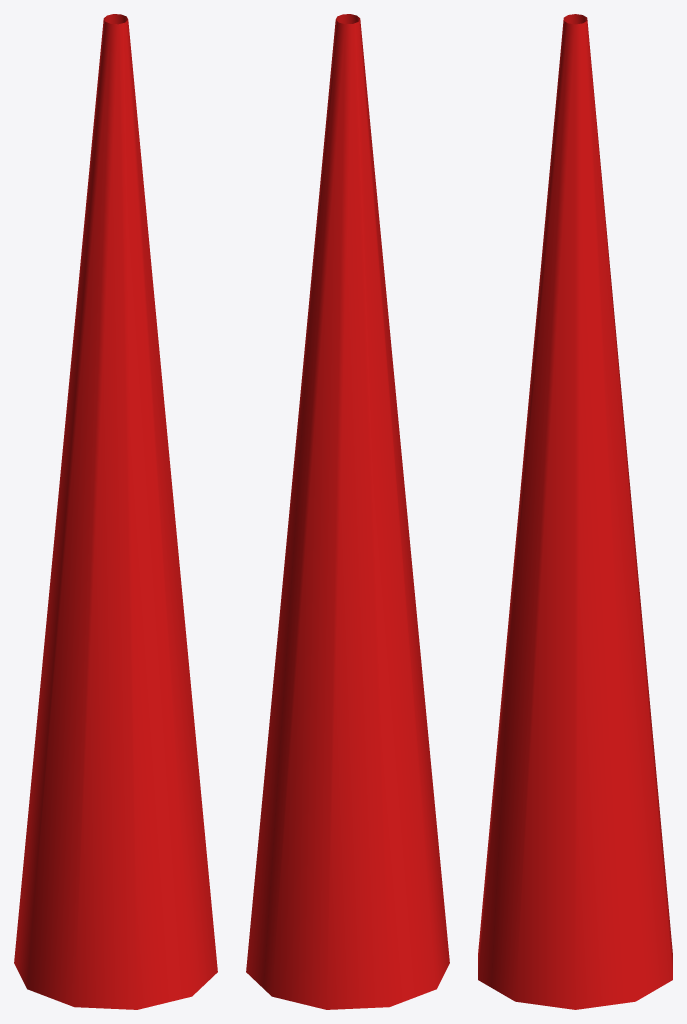
The model's file is light.fbx.
3 renders of one model, left to right at view 1: azimuth 30°, elevation 25°; view 2: azimuth 150°, elevation 25°; view 3: azimuth 270°, elevation 25°, orthographic.
Visible parts, largest first — view 1: pCylinder10; view 2: pCylinder10; view 3: pCylinder10.
Part boxes in pixels (x1,y1,x2,y2): pCylinder10: (14, 14, 217, 1009); pCylinder10: (246, 14, 449, 1009); pCylinder10: (478, 14, 672, 1009).
Size of the model in its own units: 13.91 by 71 by 13.23.
